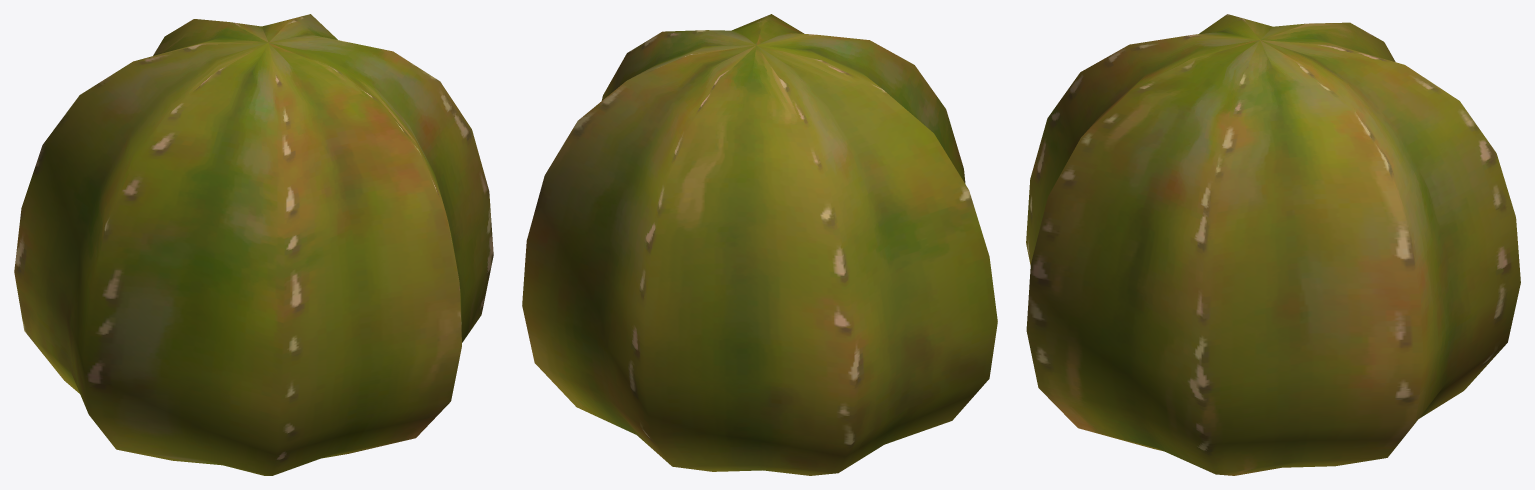
The model's file is P_CactusBulb02.obj.
The picture shows the model from 3 angles, left to right: view 1: azimuth 30°, elevation 25°; view 2: azimuth 150°, elevation 25°; view 3: azimuth 270°, elevation 25°; orthographic projection. The views are drawn at different scales.
Bounding box in the file's own units: 1.04 × 0.9539 × 1.04.
